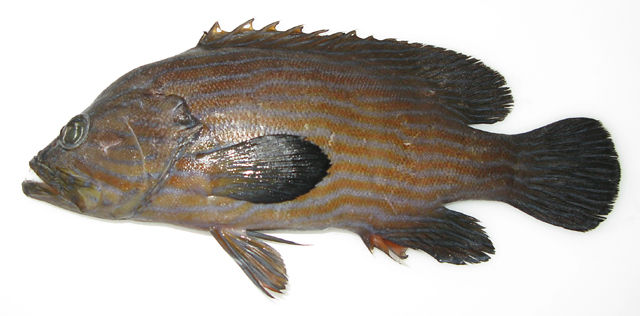fish: (22, 17, 621, 296)
